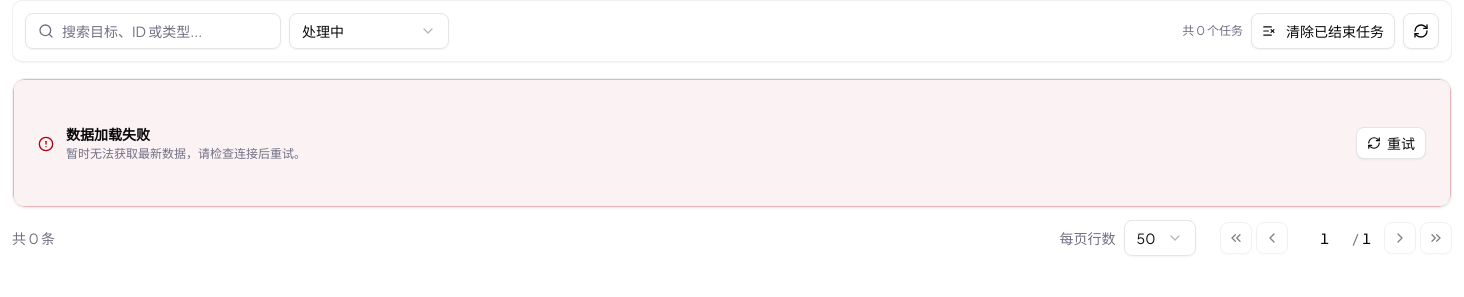
Scenario: persistent task queue › shows a retryable load failure instead of an empty queue
This screenshot has width=1464, height=297.
Expected: the message shows "数据加载失败", [66,125,150,143]
Click the button "重试" at (1391, 143), box [1356,127,1426,159]
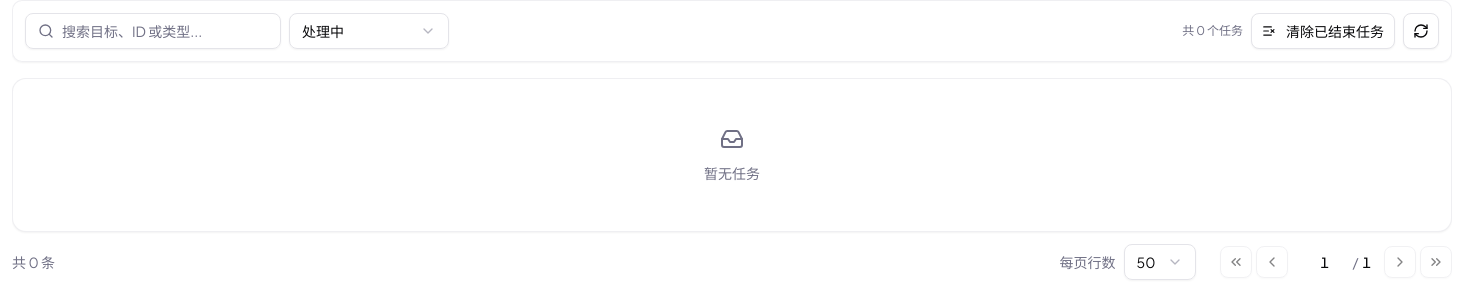
Expected: the text "暂无任务" is shown, [704,163,760,183]
